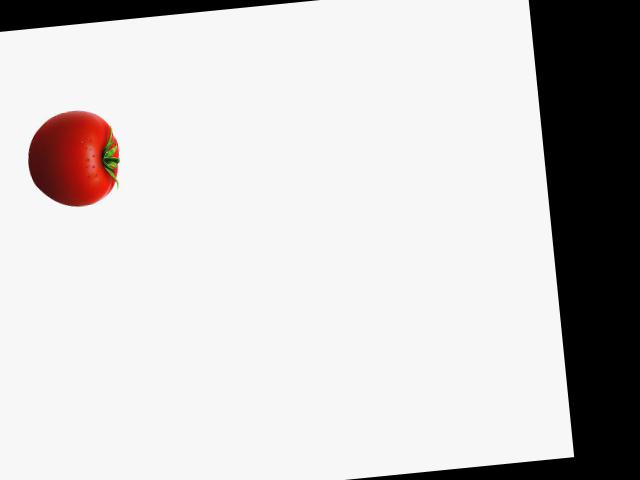tomato: (24, 118, 123, 210)
